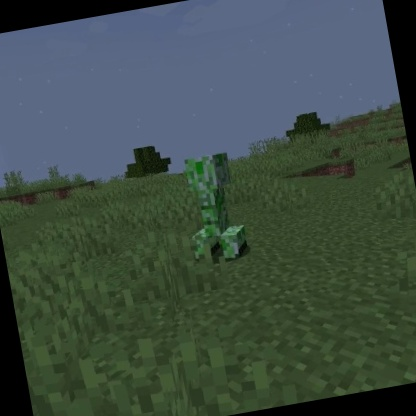creeper: (175, 148, 252, 270)
